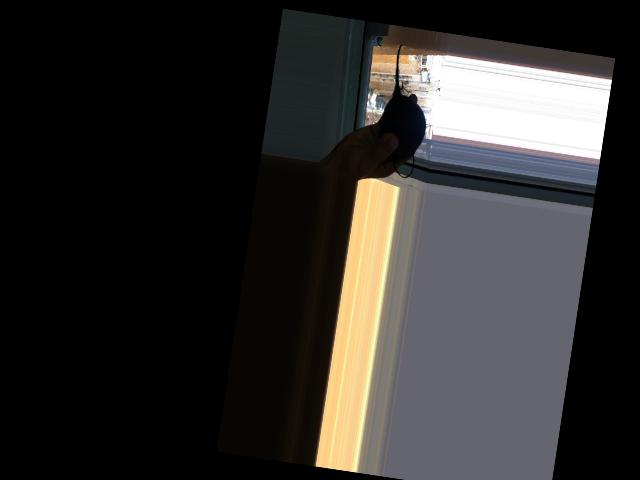beet: (373, 42, 437, 179)
